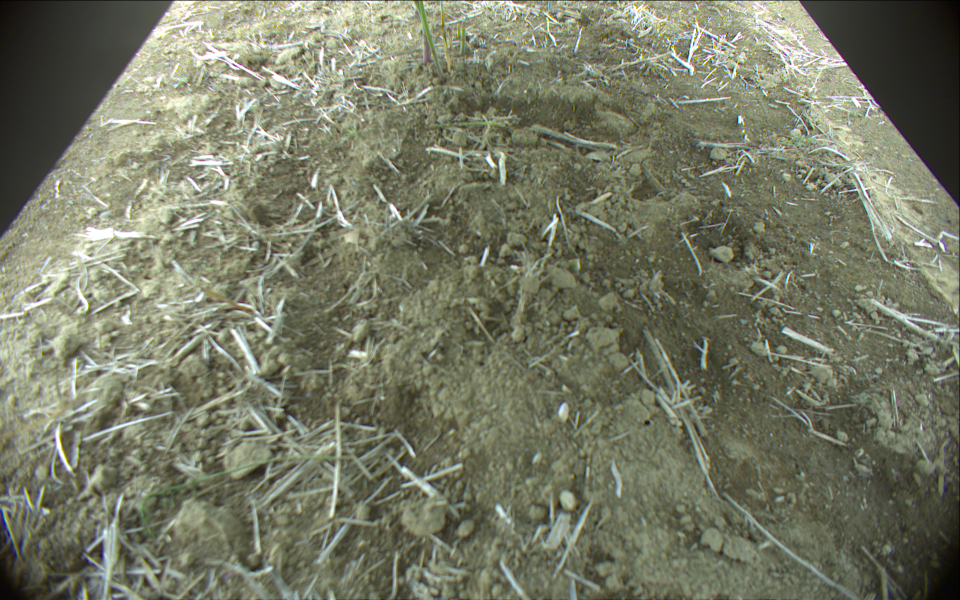aspa: (418, 1, 445, 74), (422, 28, 433, 71), (456, 18, 465, 56)
